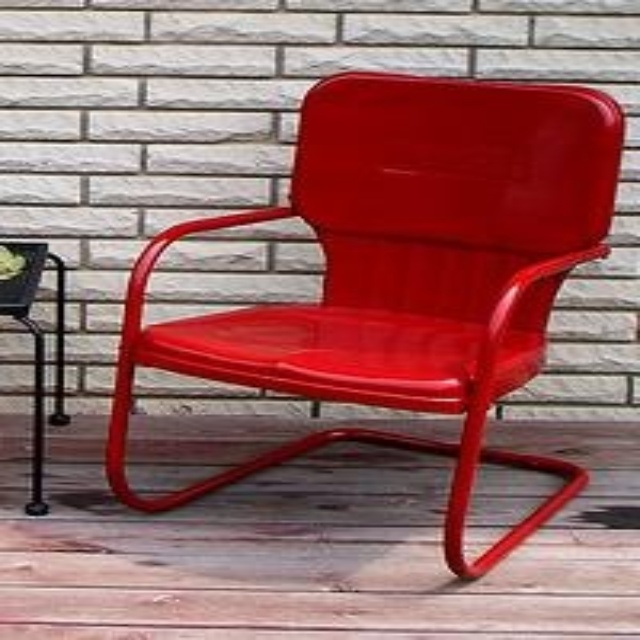obstacle: (106, 72, 621, 575)
